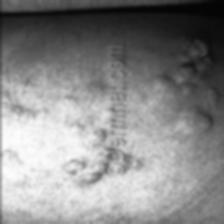Unclassified: (4, 86, 106, 196), (154, 35, 222, 131), (127, 159, 140, 172)
